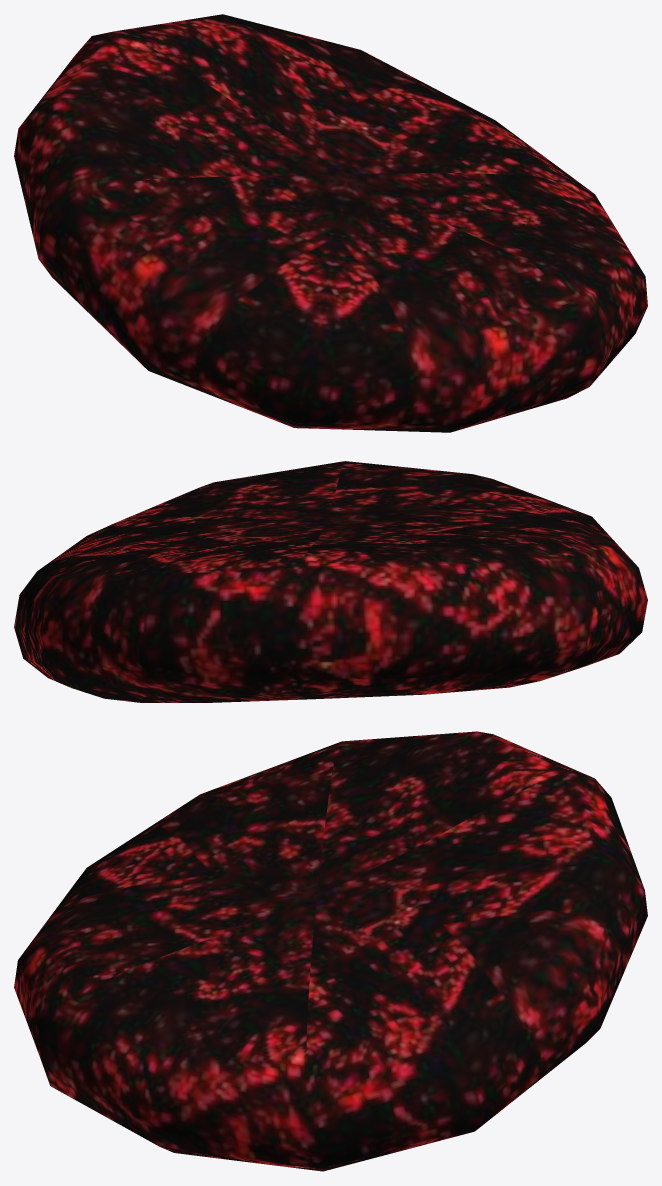
The model's file is burger_burn.fbx.
3 views of the same model, one above another, from view 1: azimuth 30°, elevation 25°; view 2: azimuth 150°, elevation 25°; view 3: azimuth 270°, elevation 25° (orthographic). The views are drawn at different scales.
Parts seen in each view (by area): view 1: pBurger_Patty; view 2: pBurger_Patty; view 3: pBurger_Patty.
Boxes of the visible parts, <box> form: pBurger_Patty: <box>14,14,647,432</box>; pBurger_Patty: <box>14,461,647,702</box>; pBurger_Patty: <box>14,731,647,1171</box>.
Bounding box in the file's own units: 1.75 × 0.7663 × 1.8.
1 material, 1 textured.
